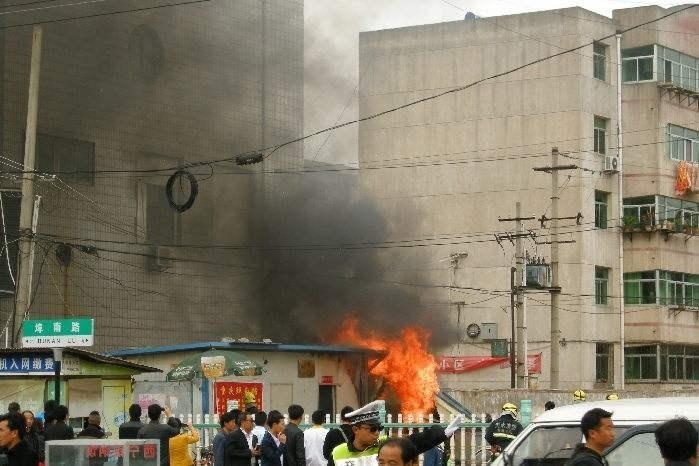fire: (339, 317, 443, 420), (671, 157, 696, 192)
